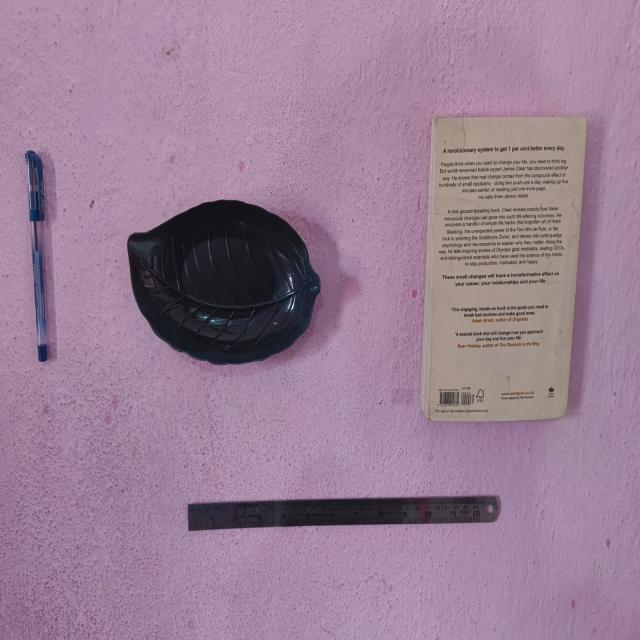Book: (418, 108, 591, 427)
blessing_card: (21, 148, 60, 366)
pen: (127, 198, 323, 368)
plate: (182, 486, 512, 537)
